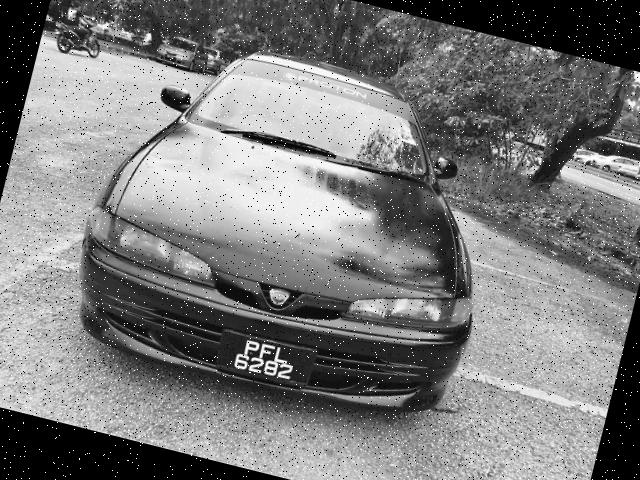License_Plate: (211, 323, 322, 400)
